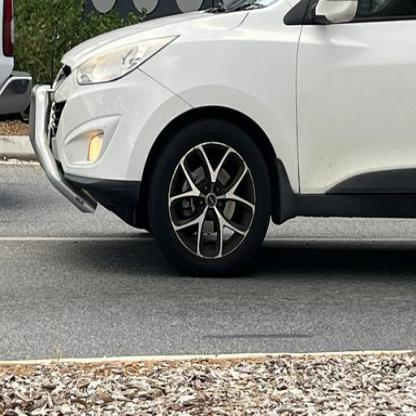Tire: (146, 117, 271, 277)
